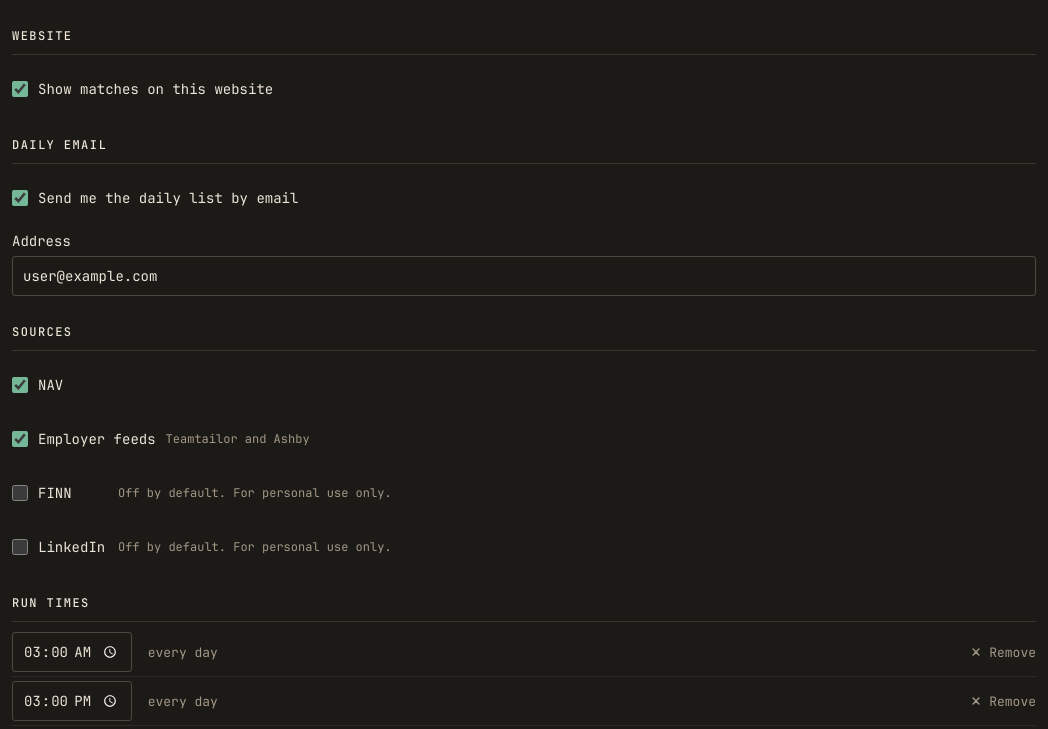
DeliverySettings › should not send run times that stay too close after a removal
Replace the text in the time field named "Run time 1" with "14:00". click: (72, 652)
box: [12,632,132,672]
(page scrolled)
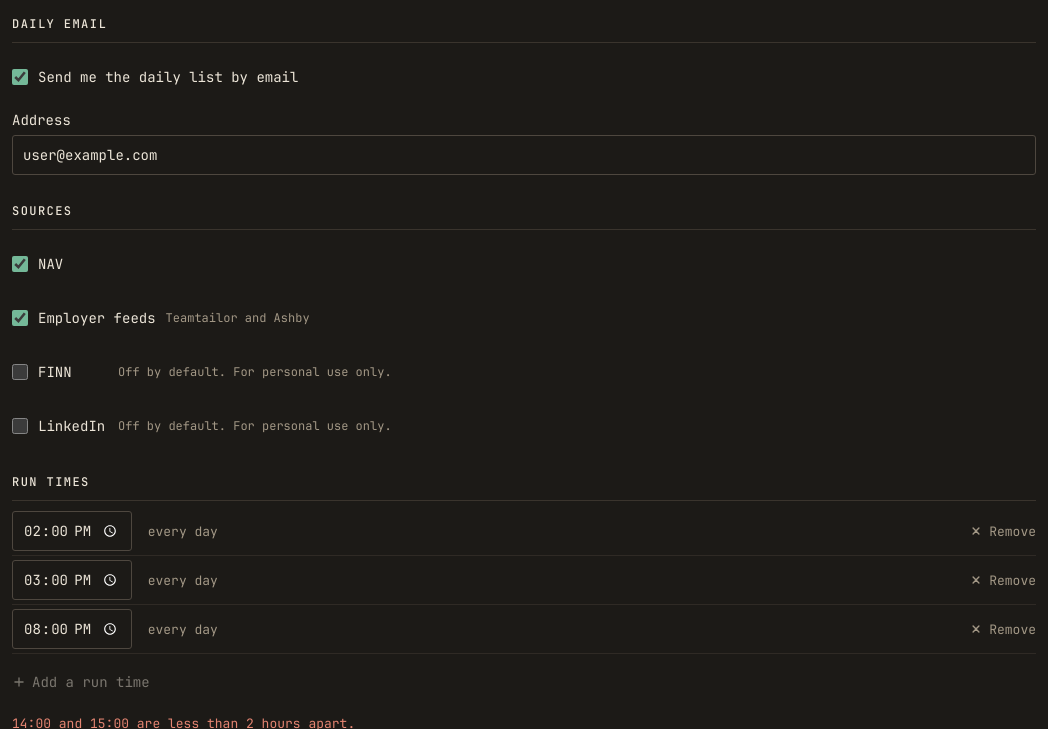
Click the button with aria-label "Remove run time 3". click: (1003, 629)
box: [969,607,1036,651]
(page scrolled)
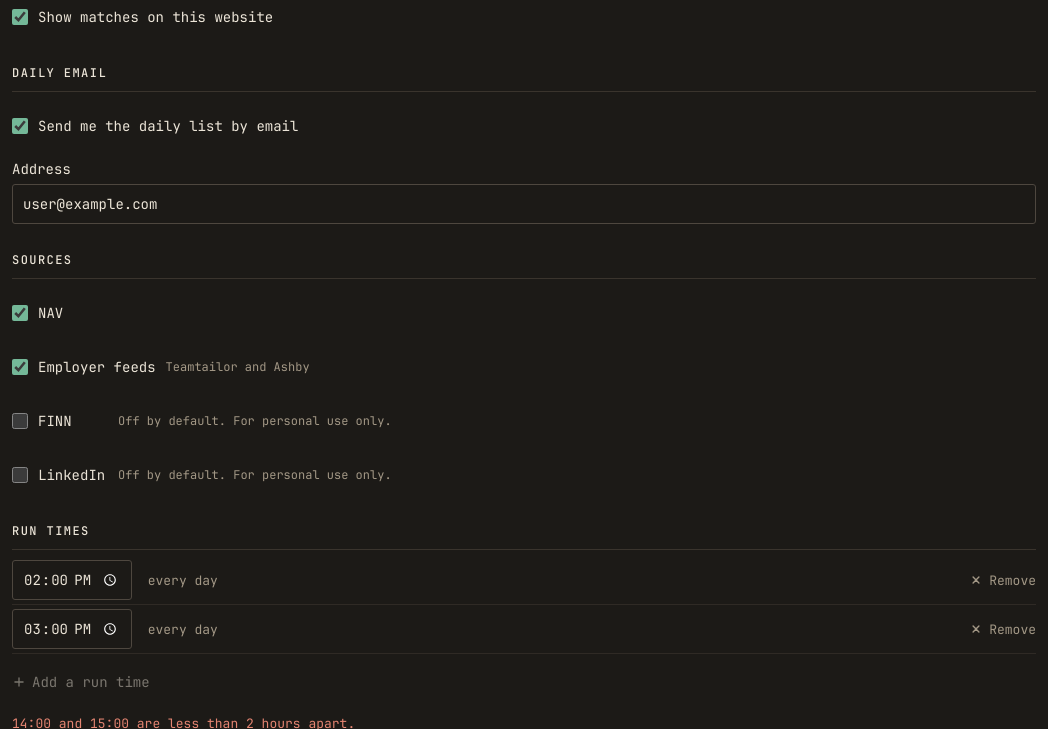
Now the number of list items is 2, box [12,556,1036,605]; [12,605,1036,654]
